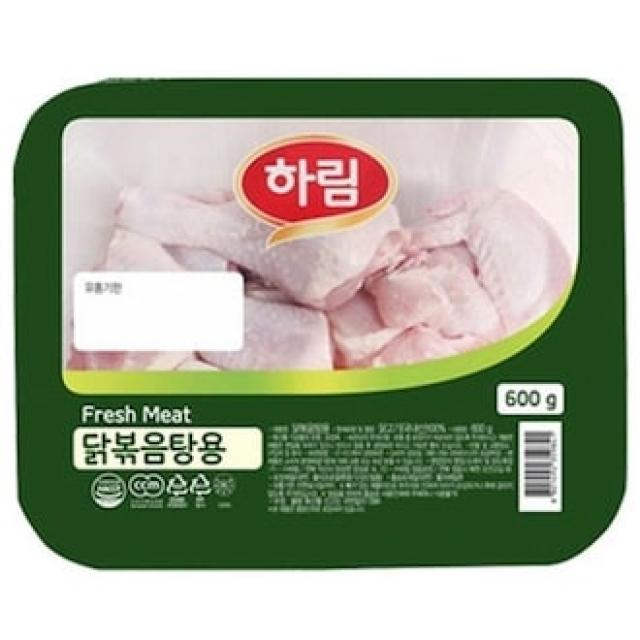chicken: (24, 100, 612, 533)
